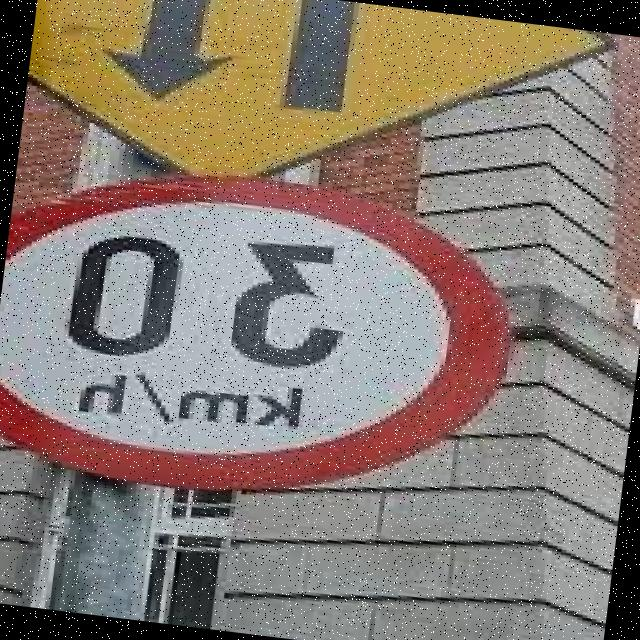speed_limit_30: (0, 133, 551, 535)
